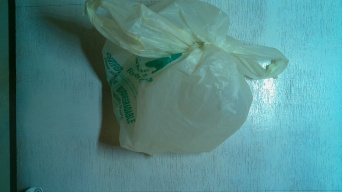f: (95, 3, 282, 165)
